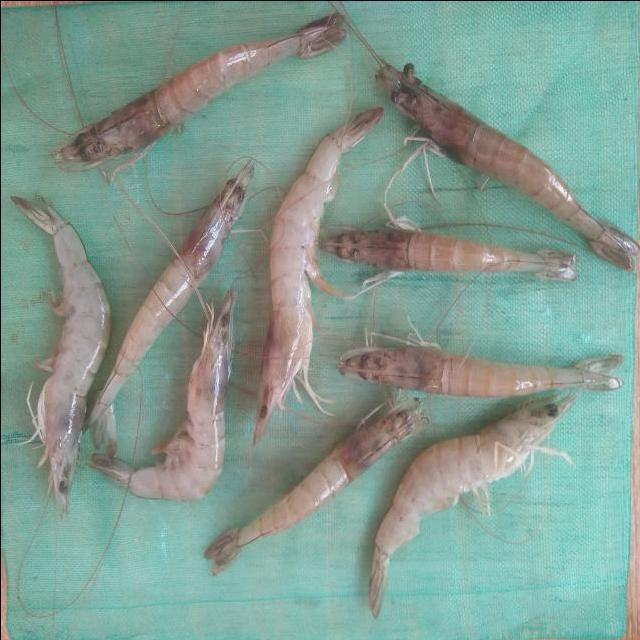shrimp: (375, 63, 640, 271), (85, 162, 252, 452), (53, 12, 347, 171), (368, 394, 575, 619), (252, 106, 383, 444), (203, 399, 427, 576), (8, 195, 108, 515), (87, 289, 235, 502), (337, 346, 623, 397), (319, 227, 578, 280)
